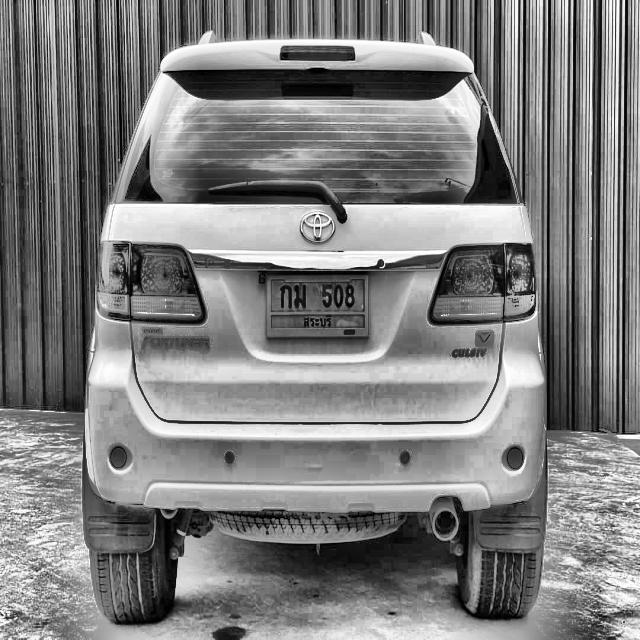license-plate: (265, 264, 371, 340)
